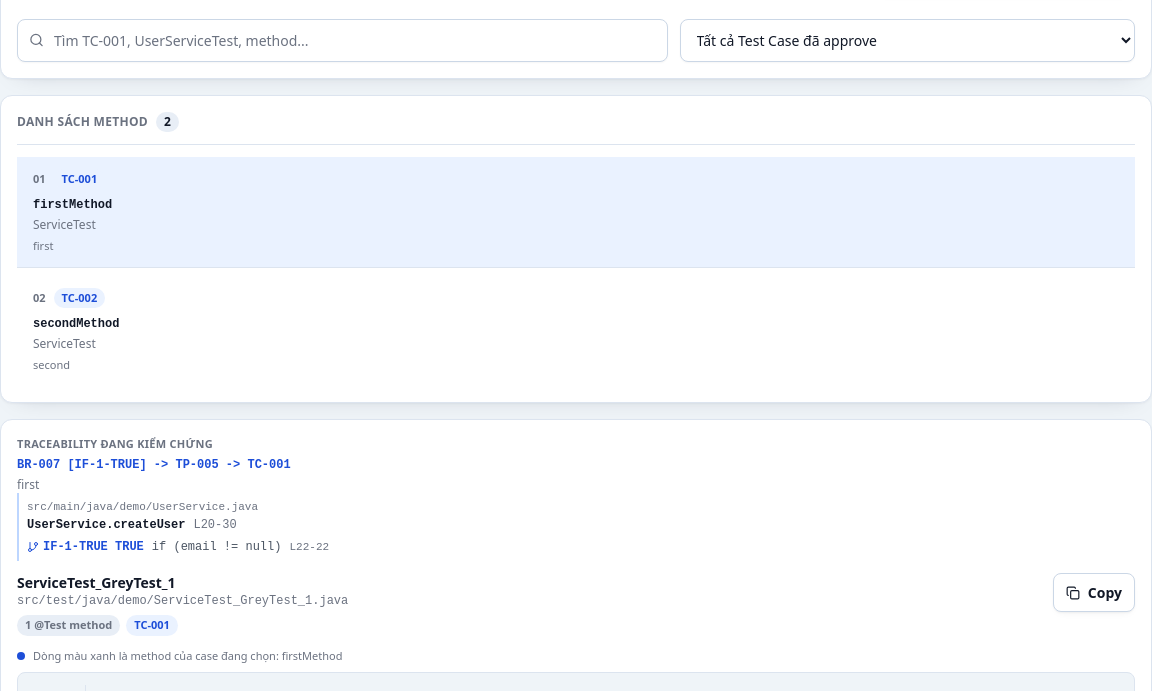
Test: UnitTestsPanel › opens the matching renamed fixture file when records keep their original path
The width and height of the screenshot is (1152, 691).
(page scrolled)
Click the button "02 TC-002 secondMethod ServiceTest second" at (79, 298), box [17,276,1135,386]
(page scrolled)
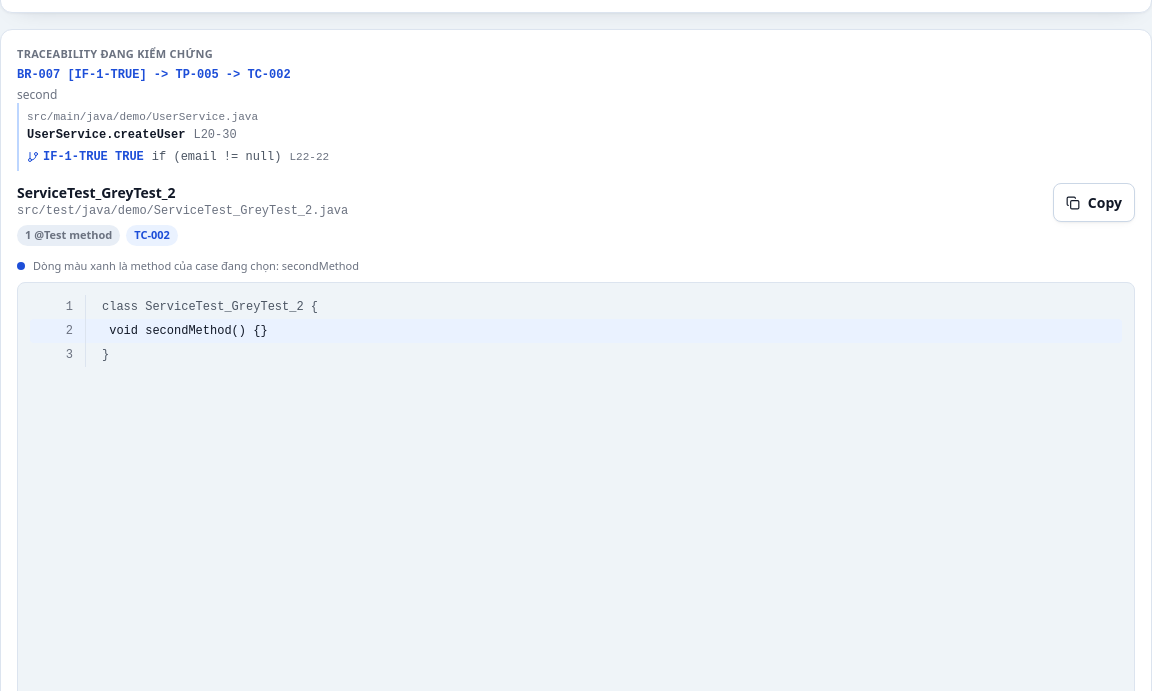
expect the text "class ServiceTest_GreyTest_2 {" is shown: met, box [102,300,318,314]
